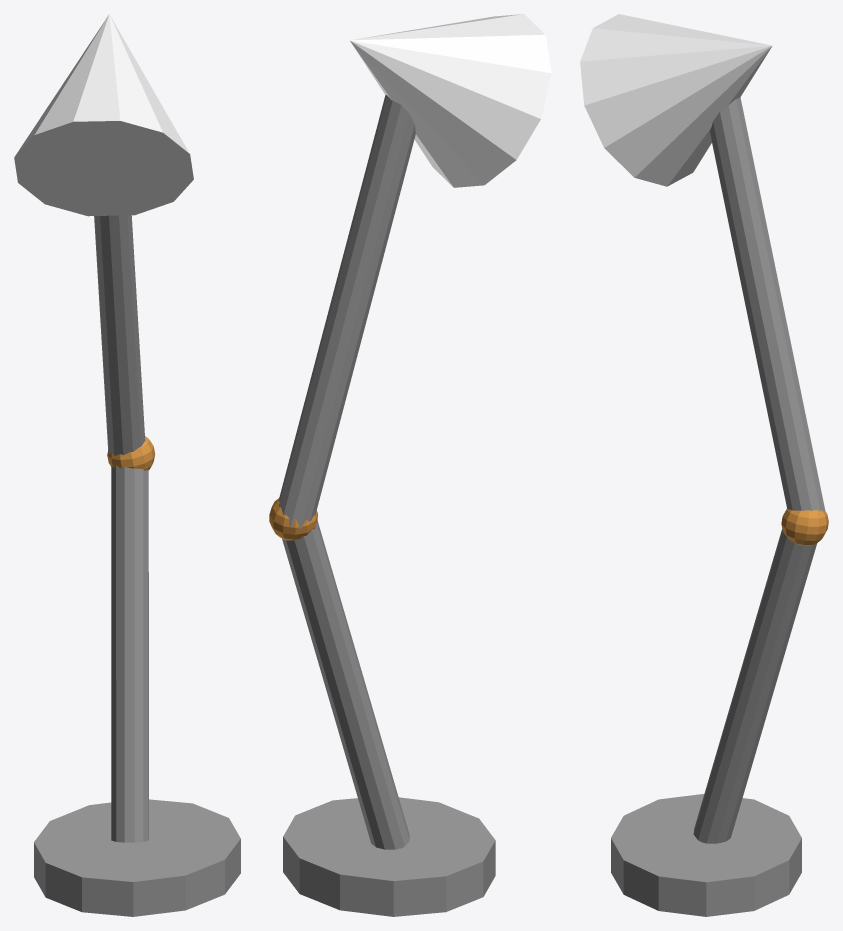
3 renders of one model, left to right at view 1: azimuth 30°, elevation 25°; view 2: azimuth 150°, elevation 25°; view 3: azimuth 270°, elevation 25°, orthographic. The views are drawn at different scales.
Visible parts, largest first — view 1: group950862714, group1499520478, group1715671703, group857214419, group1273677891; view 2: group950862714, group1499520478, group857214419, group1715671703, group1273677891; view 3: group950862714, group1499520478, group857214419, group1715671703, group1273677891.
Boxes of the visible parts, x1,y1,x2,y2 form: group950862714: (14,14,193,216); group1499520478: (34,799,240,916); group1715671703: (111,465,148,842); group857214419: (94,215,145,455); group1273677891: (107,436,155,470); group950862714: (350,14,551,187); group1499520478: (283,797,495,916); group857214419: (279,95,415,528); group1715671703: (282,521,409,849); group1273677891: (269,498,317,540); group950862714: (580,14,772,186); group1499520478: (611,794,801,916); group857214419: (710,97,825,512); group1715671703: (693,529,816,843); group1273677891: (781,508,828,545).
Bounding box in the file's own units: 0.5453 × 1.92 × 0.5209.
